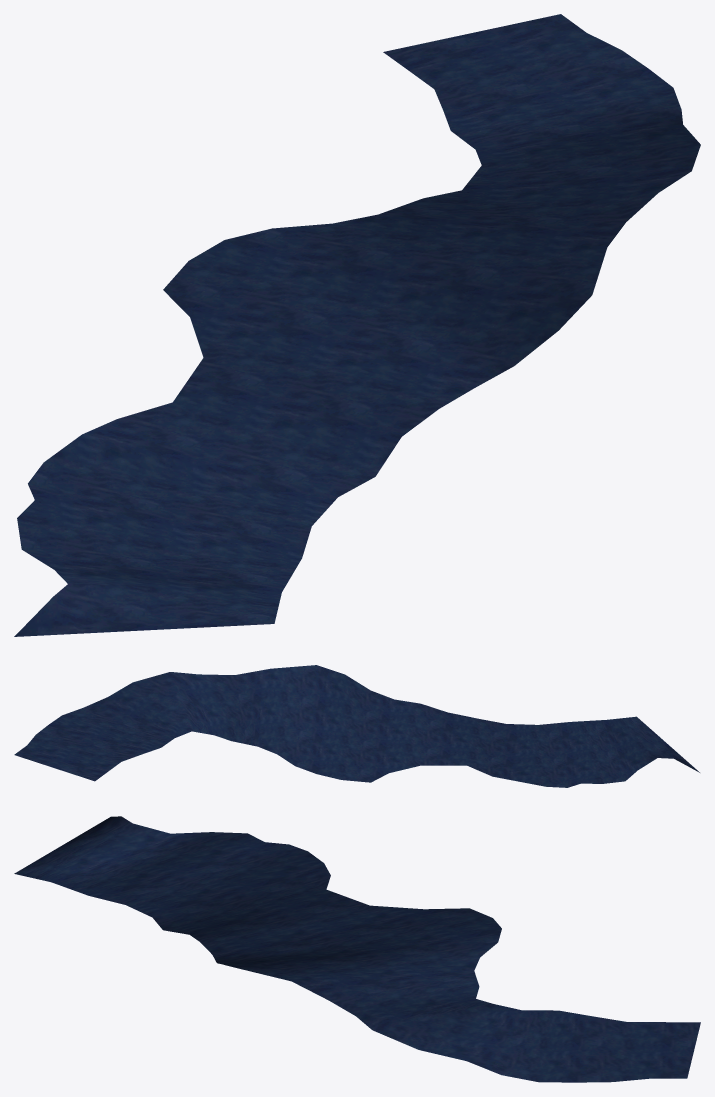
File: water02.fbx
3 renders of one model, top to bottom at view 1: azimuth 30°, elevation 25°; view 2: azimuth 150°, elevation 25°; view 3: azimuth 270°, elevation 25°, orthographic. The views are drawn at different scales.
Visible parts, largest first — view 1: river_water; view 2: river_water; view 3: river_water.
Part boxes in pixels (bbox=[...]): river_water: bbox=[14, 14, 700, 636]; river_water: bbox=[14, 665, 699, 787]; river_water: bbox=[14, 816, 700, 1082].
Size of the model in its own units: 53.53 by 6.56 by 46.21.
